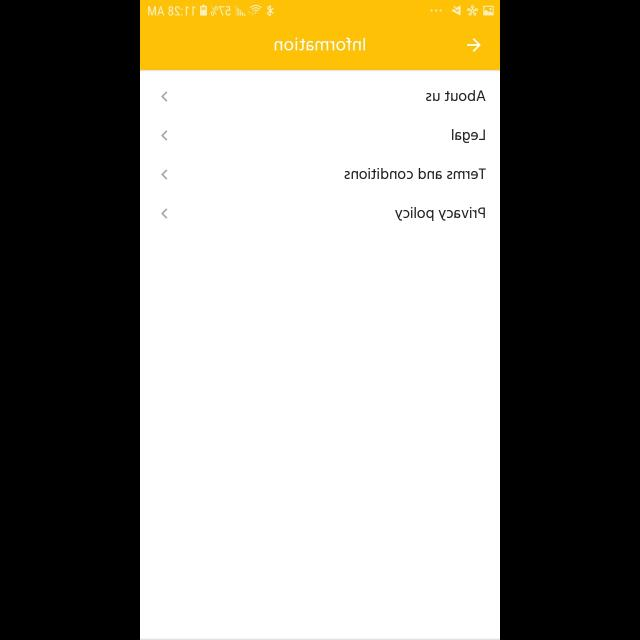icon: (467, 38, 481, 52), (160, 130, 168, 142), (160, 208, 168, 220), (160, 91, 168, 102), (160, 170, 168, 180)
text: (344, 168, 486, 180), (395, 206, 485, 222), (274, 37, 364, 51), (425, 90, 485, 102), (452, 130, 484, 144)
uppertaskbar: (140, 1, 500, 18)
